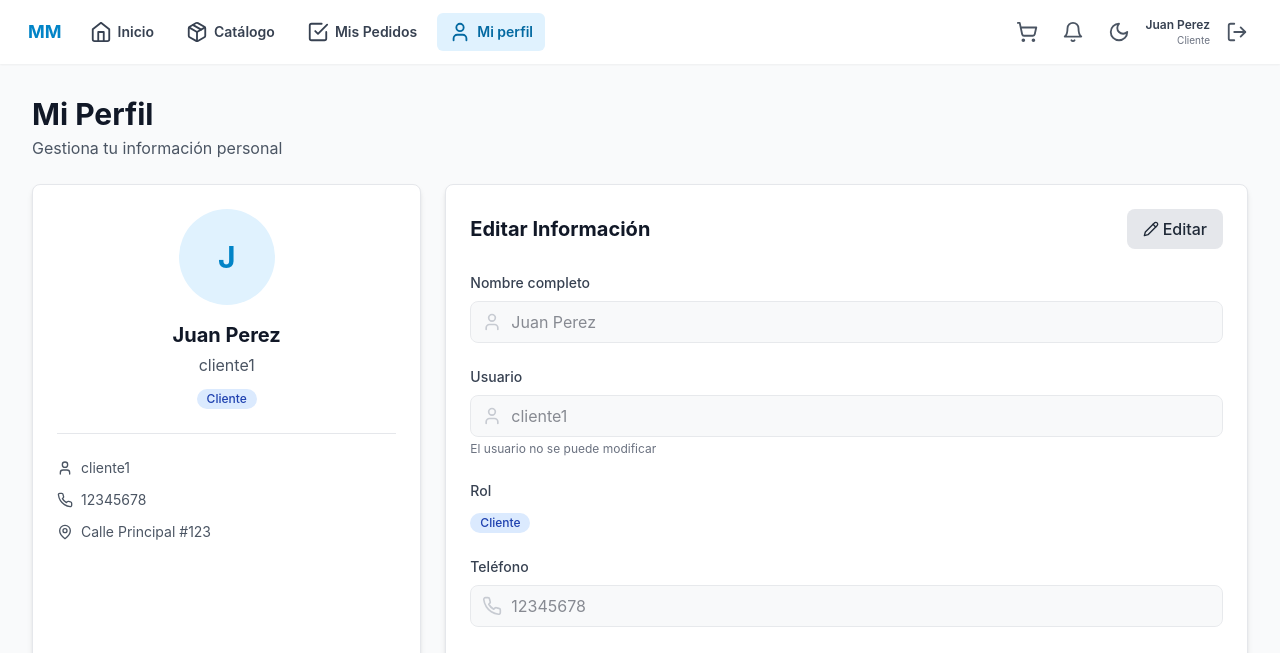
P-03 - PerfilGeneral actualiza el estado del store › P-03: la vista refleja el nombre actualizado tras guardar
Step 1. Click the button "Editar" → (1175, 229), box [1127, 209, 1223, 249]
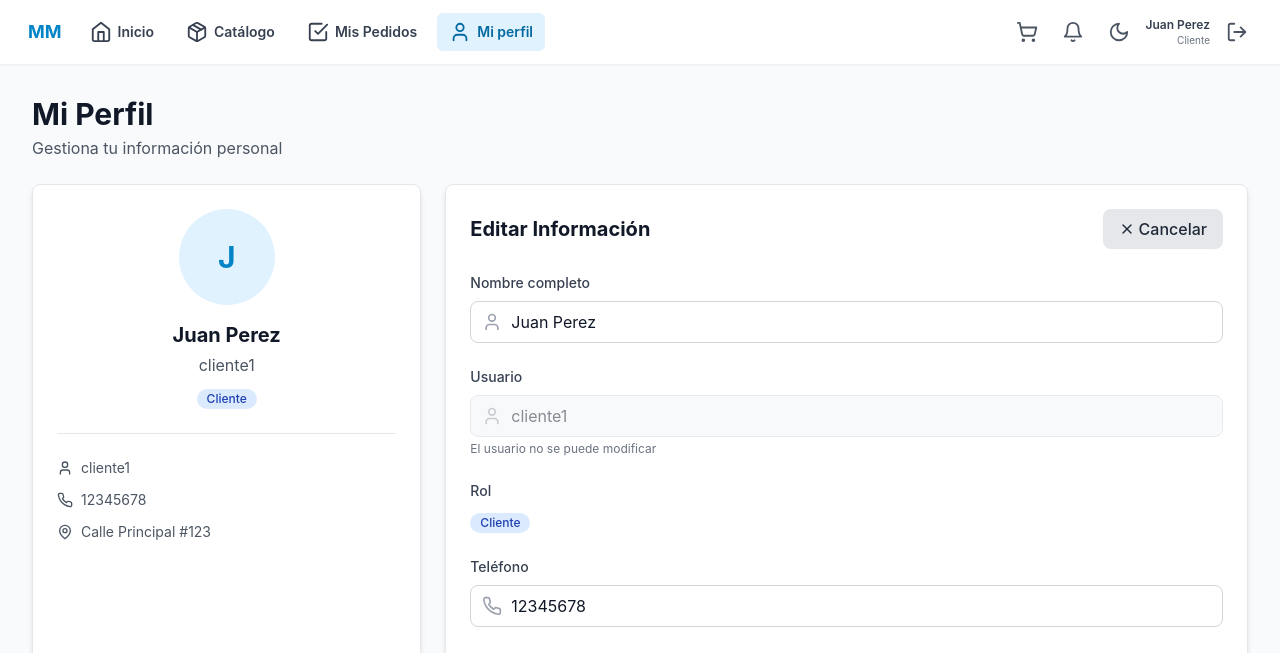
Step 2. Replace the text in the field labelled "Nombre completo" with "Ana Gomez" → (847, 322), box [470, 301, 1223, 343]
(page scrolled)
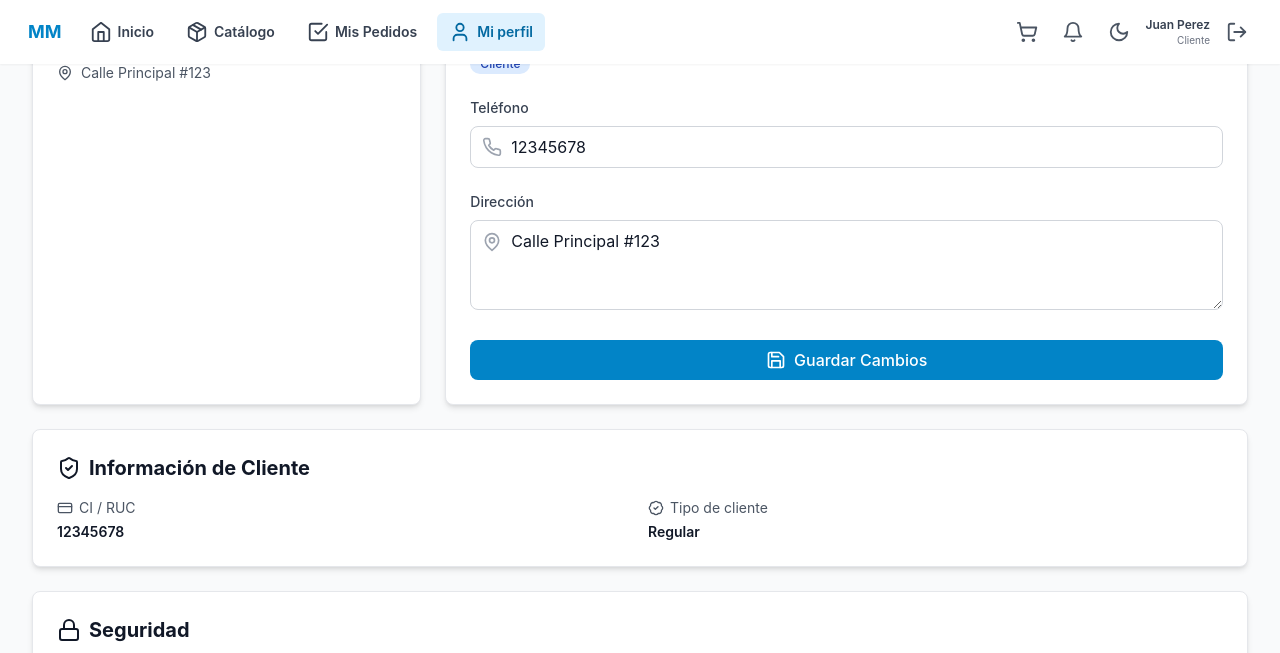
Step 3. Click the button "Guardar Cambios" → (847, 360), box [470, 340, 1223, 380]
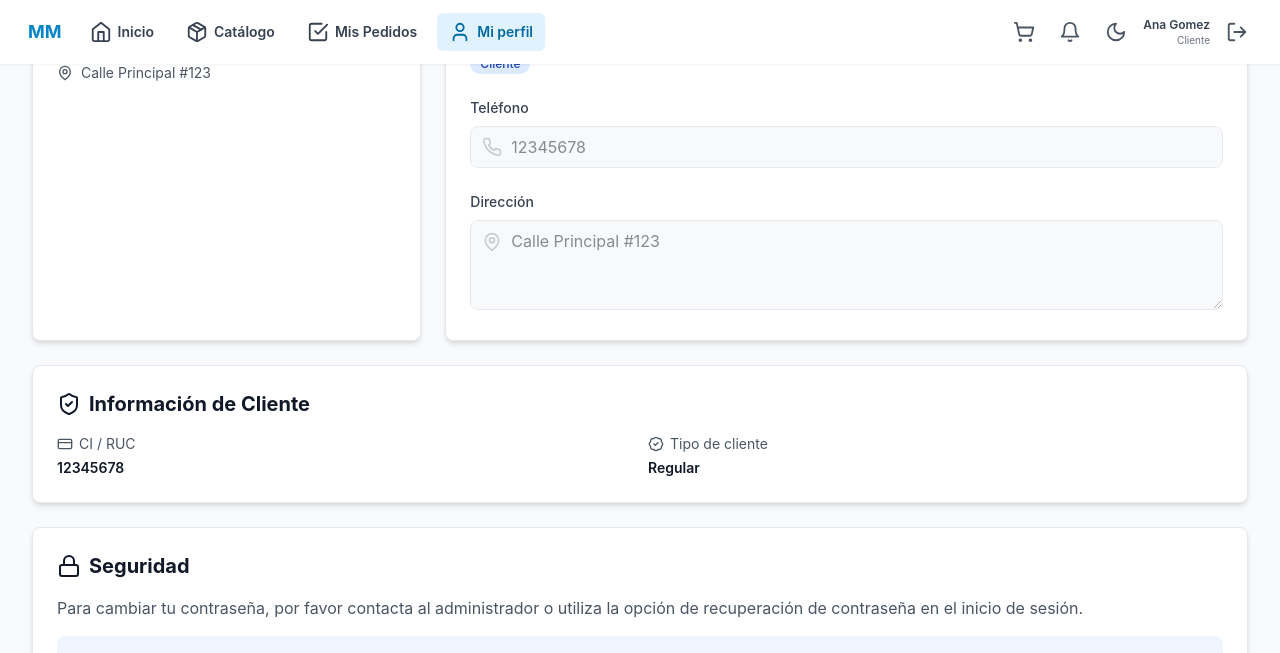
Expected: the text "Ana Gomez" is shown, [1143, 16, 1210, 32]
